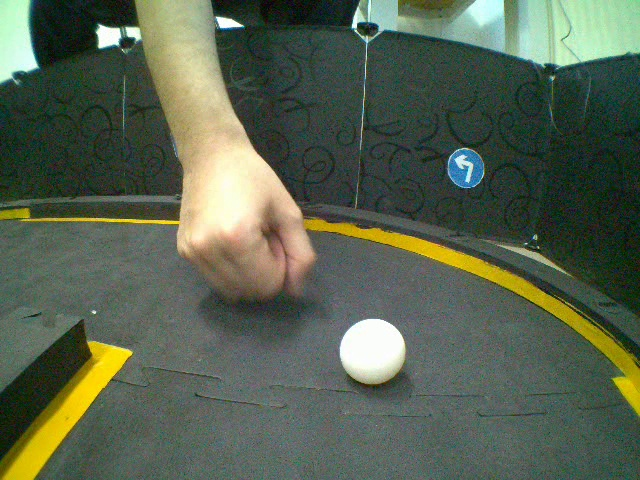ball: (339, 317, 408, 387)
